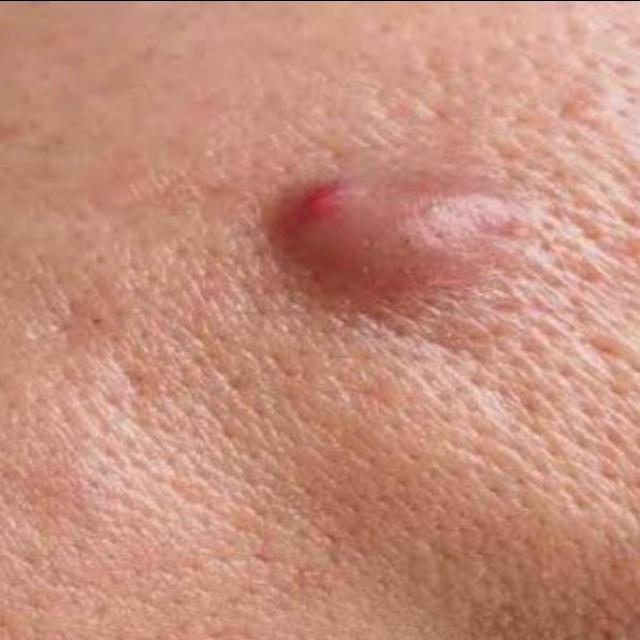nodule: (225, 161, 566, 345)
